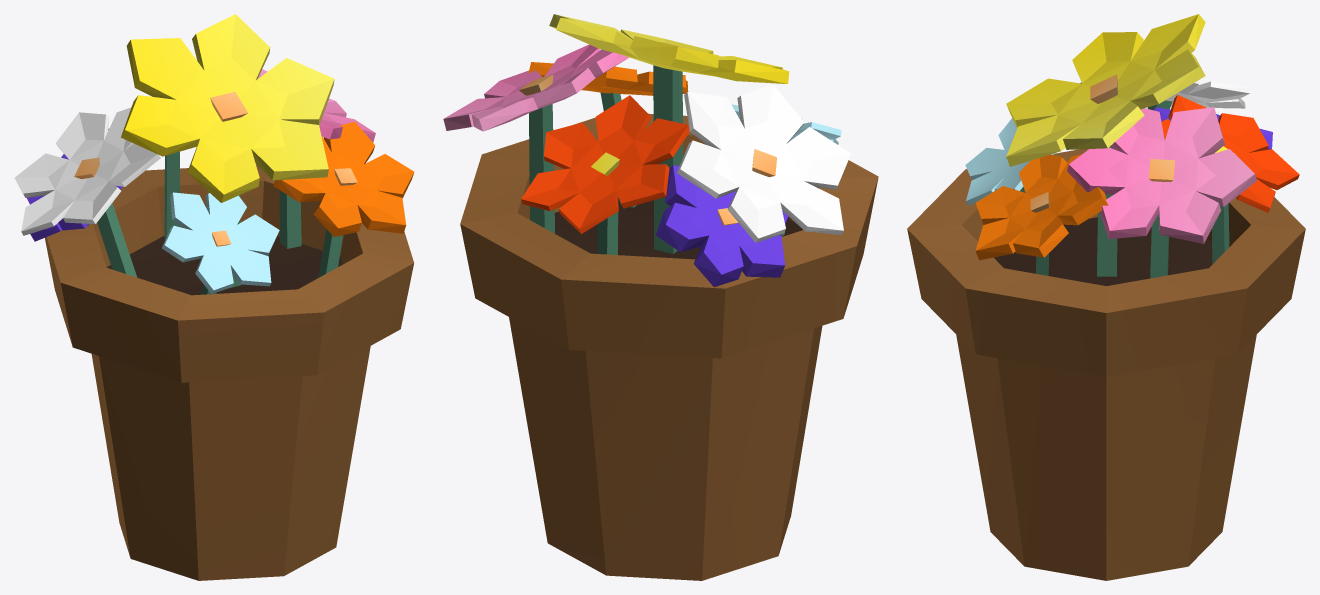
File: Flower_Pot_01.fbx
3 views of the same model, side by side, from view 1: azimuth 30°, elevation 25°; view 2: azimuth 150°, elevation 25°; view 3: azimuth 270°, elevation 25° (orthographic). The views are drawn at different scales.
Visible parts, largest first — view 1: Flower_Pot_01, Flower_Patch_01.001, Flower_Patch_01.004, Flower_Patch_01.010, Flower_Patch_01.006, Flower_Patch_01.005, Flower_Patch_01.003, Flower_Patch_01.002, Flower_Patch_01.011, Flower_Patch_01.009, Flower_Patch_01, Flower_Patch_01.012; view 2: Flower_Pot_01, Flower_Patch_01.004, Flower_Patch_01.008, Flower_Patch_01.012, Flower_Patch_01.002, Flower_Patch_01.001, Flower_Patch_01, Flower_Patch_01.003, Flower_Patch_01.010, Flower_Patch_01.009; view 3: Flower_Pot_01, Flower_Patch_01.002, Flower_Patch_01.001, Flower_Patch_01.010, Flower_Patch_01.008, Flower_Patch_01.006, Flower_Patch_01, Flower_Patch_01.004, Flower_Patch_01.003, Flower_Patch_01.009, Flower_Patch_01.011.
Part boxes in pixels (<box>): Flower_Pot_01: <box>45,164,413,580</box>; Flower_Patch_01.001: <box>121,14,334,202</box>; Flower_Patch_01.004: <box>14,107,160,235</box>; Flower_Patch_01.010: <box>273,121,414,236</box>; Flower_Patch_01.006: <box>162,192,279,293</box>; Flower_Patch_01.005: <box>74,157,137,277</box>; Flower_Patch_01.003: <box>279,190,301,248</box>; Flower_Patch_01.002: <box>257,69,375,142</box>; Flower_Patch_01.011: <box>318,168,357,277</box>; Flower_Patch_01.009: <box>164,151,179,240</box>; Flower_Patch_01: <box>210,92,247,288</box>; Flower_Patch_01.012: <box>27,154,122,241</box>; Flower_Pot_01: <box>460,113,878,580</box>; Flower_Patch_01.004: <box>677,84,851,242</box>; Flower_Patch_01.008: <box>521,95,689,233</box>; Flower_Patch_01.012: <box>656,165,788,286</box>; Flower_Patch_01.002: <box>443,44,628,131</box>; Flower_Patch_01.001: <box>549,14,789,83</box>; Flower_Patch_01: <box>653,42,683,253</box>; Flower_Patch_01.003: <box>519,74,555,233</box>; Flower_Patch_01.010: <box>528,62,688,95</box>; Flower_Patch_01.009: <box>591,152,619,254</box>; Flower_Pot_01: <box>907,149,1305,580</box>; Flower_Patch_01.002: <box>1067,107,1256,243</box>; Flower_Patch_01.001: <box>1006,14,1205,166</box>; Flower_Patch_01.010: <box>975,154,1108,260</box>; Flower_Patch_01.008: <box>1161,94,1299,212</box>; Flower_Patch_01.006: <box>965,118,1054,205</box>; Flower_Patch_01: <box>1090,74,1118,276</box>; Flower_Patch_01.004: <box>1080,80,1250,108</box>; Flower_Patch_01.003: <box>1148,159,1175,278</box>; Flower_Patch_01.009: <box>1212,146,1234,264</box>; Flower_Patch_01.011: <box>1030,192,1049,275</box>.
Bounding box in the file's own units: 0.7045 × 0.9197 × 0.6762.
